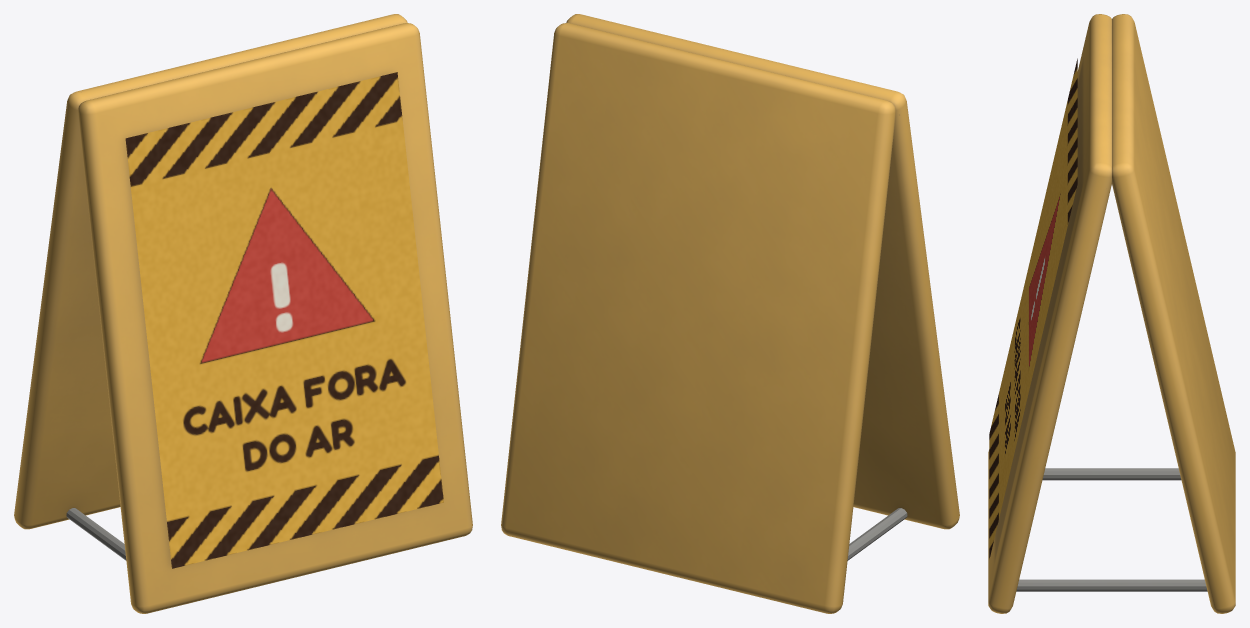
File: OutOfOrderSign.fbx
3 views of the same model, side by side, from view 1: azimuth 30°, elevation 25°; view 2: azimuth 150°, elevation 25°; view 3: azimuth 270°, elevation 25° (orthographic). The views are drawn at different scales.
Visible parts, largest first — view 1: OutOfOrderSign; view 2: OutOfOrderSign; view 3: OutOfOrderSign.
Part boxes in pixels (x1=…): OutOfOrderSign: x1=14, y1=14, x2=472, y2=613; OutOfOrderSign: x1=501, y1=14, x2=959, y2=613; OutOfOrderSign: x1=988, y1=14, x2=1235, y2=613.
Size of the model in its own units: 73 by 98.02 by 48.85.
